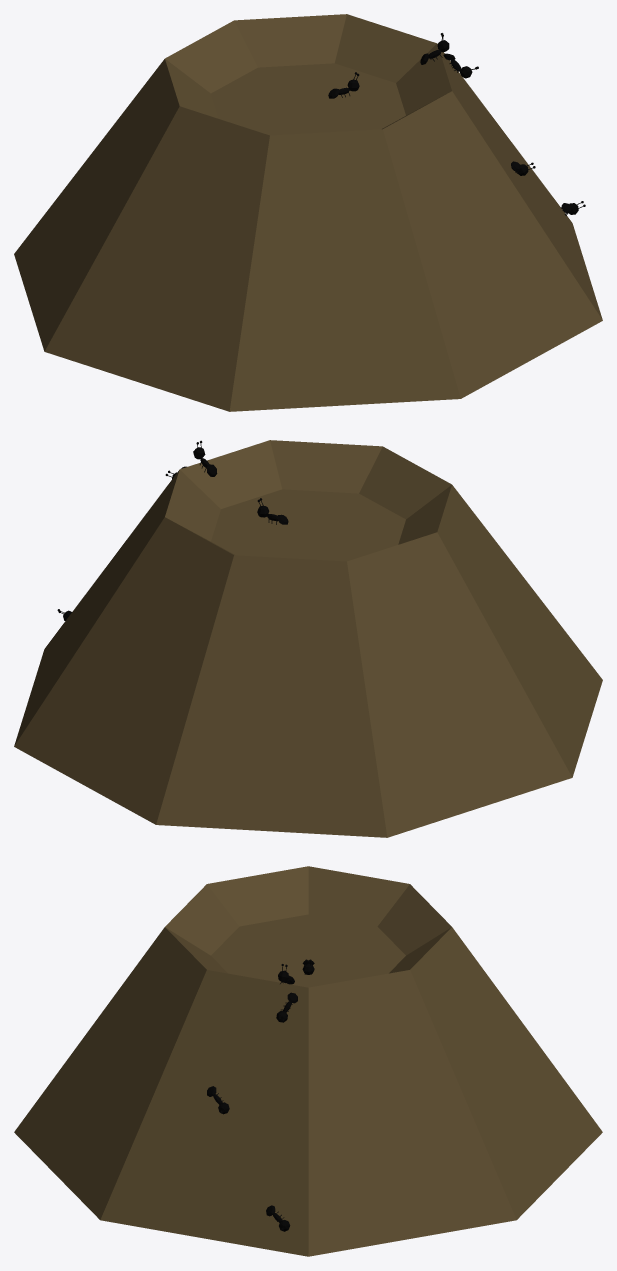
The model's file is Hormiguero.fbx.
3 renders of one model, top to bottom at view 1: azimuth 30°, elevation 25°; view 2: azimuth 150°, elevation 25°; view 3: azimuth 270°, elevation 25°, orthographic. The views are drawn at different scales.
Parts seen in each view (by area): view 1: Cylinder; view 2: Cylinder; view 3: Cylinder.
Boxes of the visible parts, x1=… form: Cylinder: x1=14, y1=14, x2=602, y2=411; Cylinder: x1=14, y1=440, x2=602, y2=837; Cylinder: x1=14, y1=866, x2=602, y2=1256.
Size of the model in its own units: 200 by 84.41 by 200.
